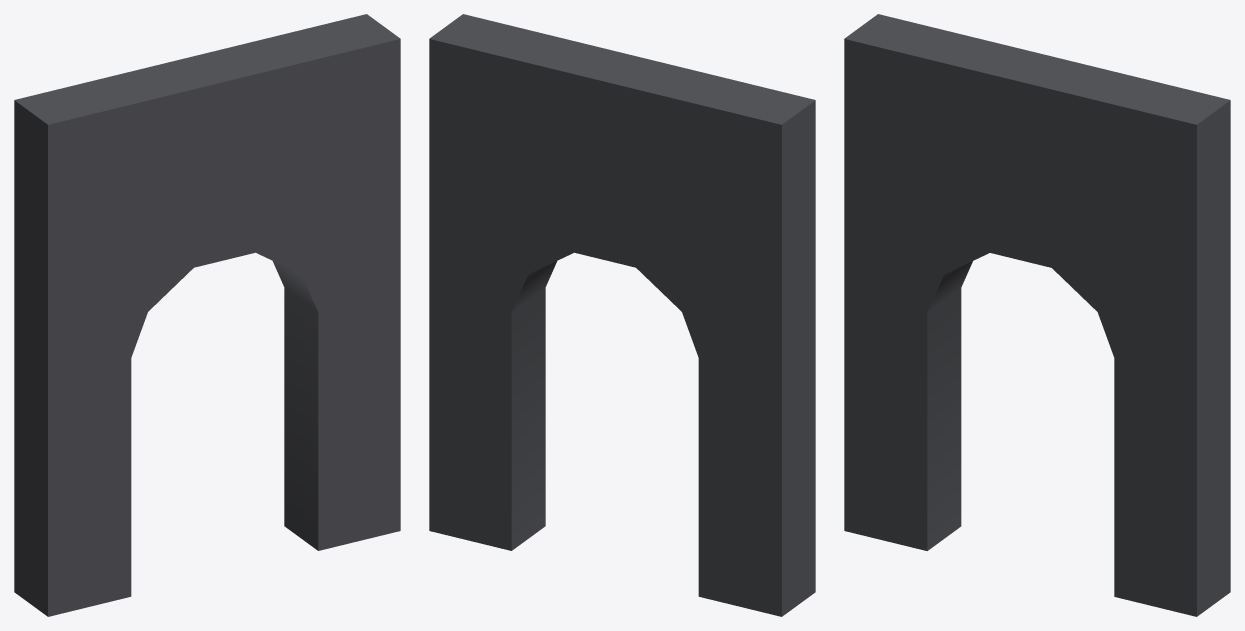
Rendered from Reliquia_Wall_Door_thickness.FBX.
3 renders of one model, left to right at view 1: azimuth 30°, elevation 25°; view 2: azimuth 150°, elevation 25°; view 3: azimuth 330°, elevation 25°, orthographic.
Parts seen in each view (by area): view 1: Box001; view 2: Box001; view 3: Box001.
Part boxes in pixels (x1=…): Box001: x1=14, y1=14, x2=400, y2=616; Box001: x1=429, y1=14, x2=815, y2=616; Box001: x1=844, y1=14, x2=1230, y2=616.
Bounding box in the file's own units: 300 × 400 × 50.
